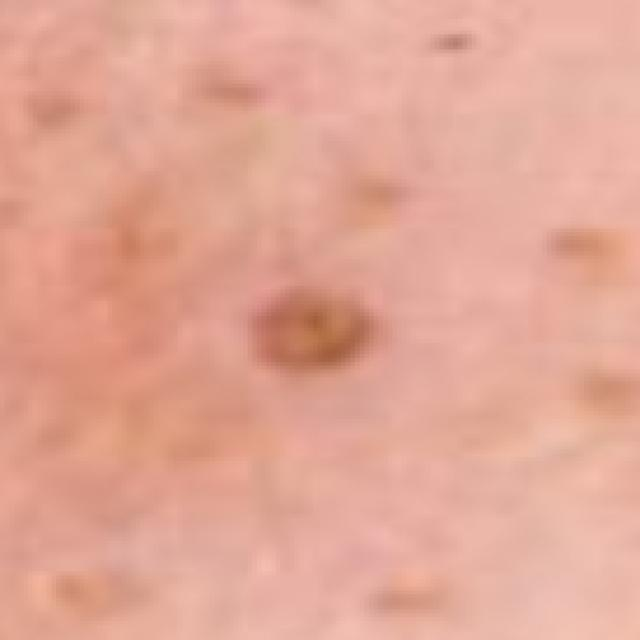blackhead: (245, 282, 379, 376), (576, 364, 636, 417), (370, 576, 440, 618), (344, 163, 398, 214), (191, 68, 254, 109), (545, 225, 614, 259), (46, 568, 101, 606), (29, 88, 73, 130), (428, 32, 476, 54)
